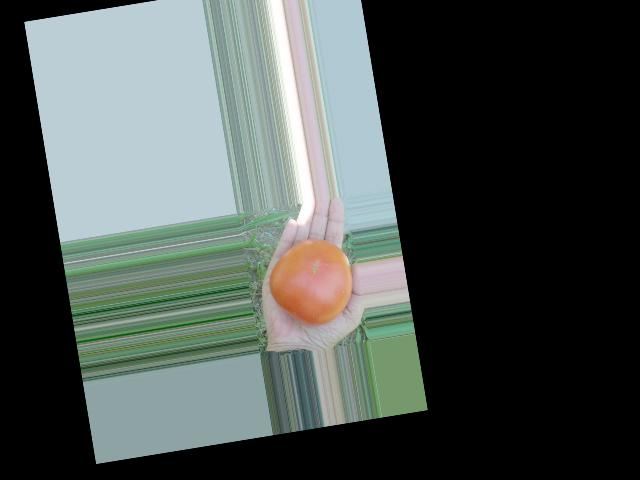tomato: (262, 233, 358, 331)
